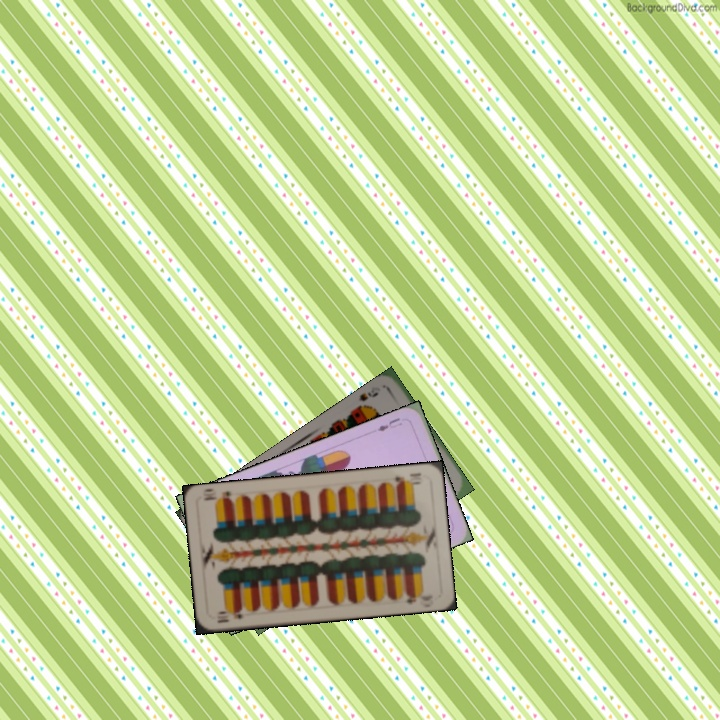E10: (213, 605, 246, 626), (391, 469, 424, 488)
EU: (373, 414, 405, 434)
S9: (351, 388, 381, 414)
